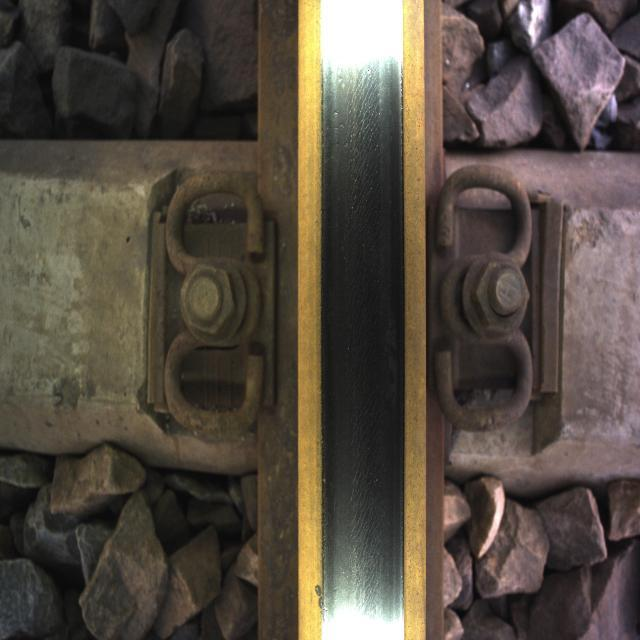break: (318, 42, 404, 520)
